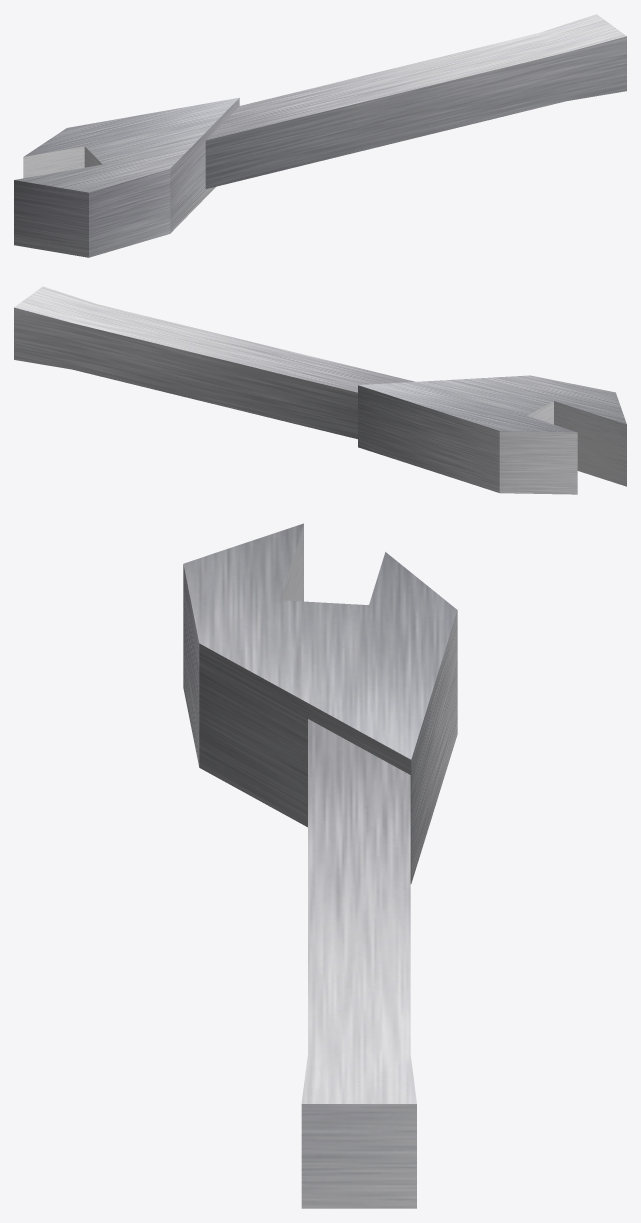
File: metal_wrench.fbx
3 views of the same model, one above another, from view 1: azimuth 30°, elevation 25°; view 2: azimuth 150°, elevation 25°; view 3: azimuth 270°, elevation 25° (orthographic). The views are drawn at different scales.
Visible parts, largest first — view 1: pCube11; view 2: pCube11; view 3: pCube11.
Part boxes in pixels (x1,y1,x2,y2): pCube11: [14, 14, 626, 257]; pCube11: [14, 286, 626, 494]; pCube11: [183, 523, 457, 1208].
Size of the model in its own units: 3.78 by 0.384 by 0.7669.
